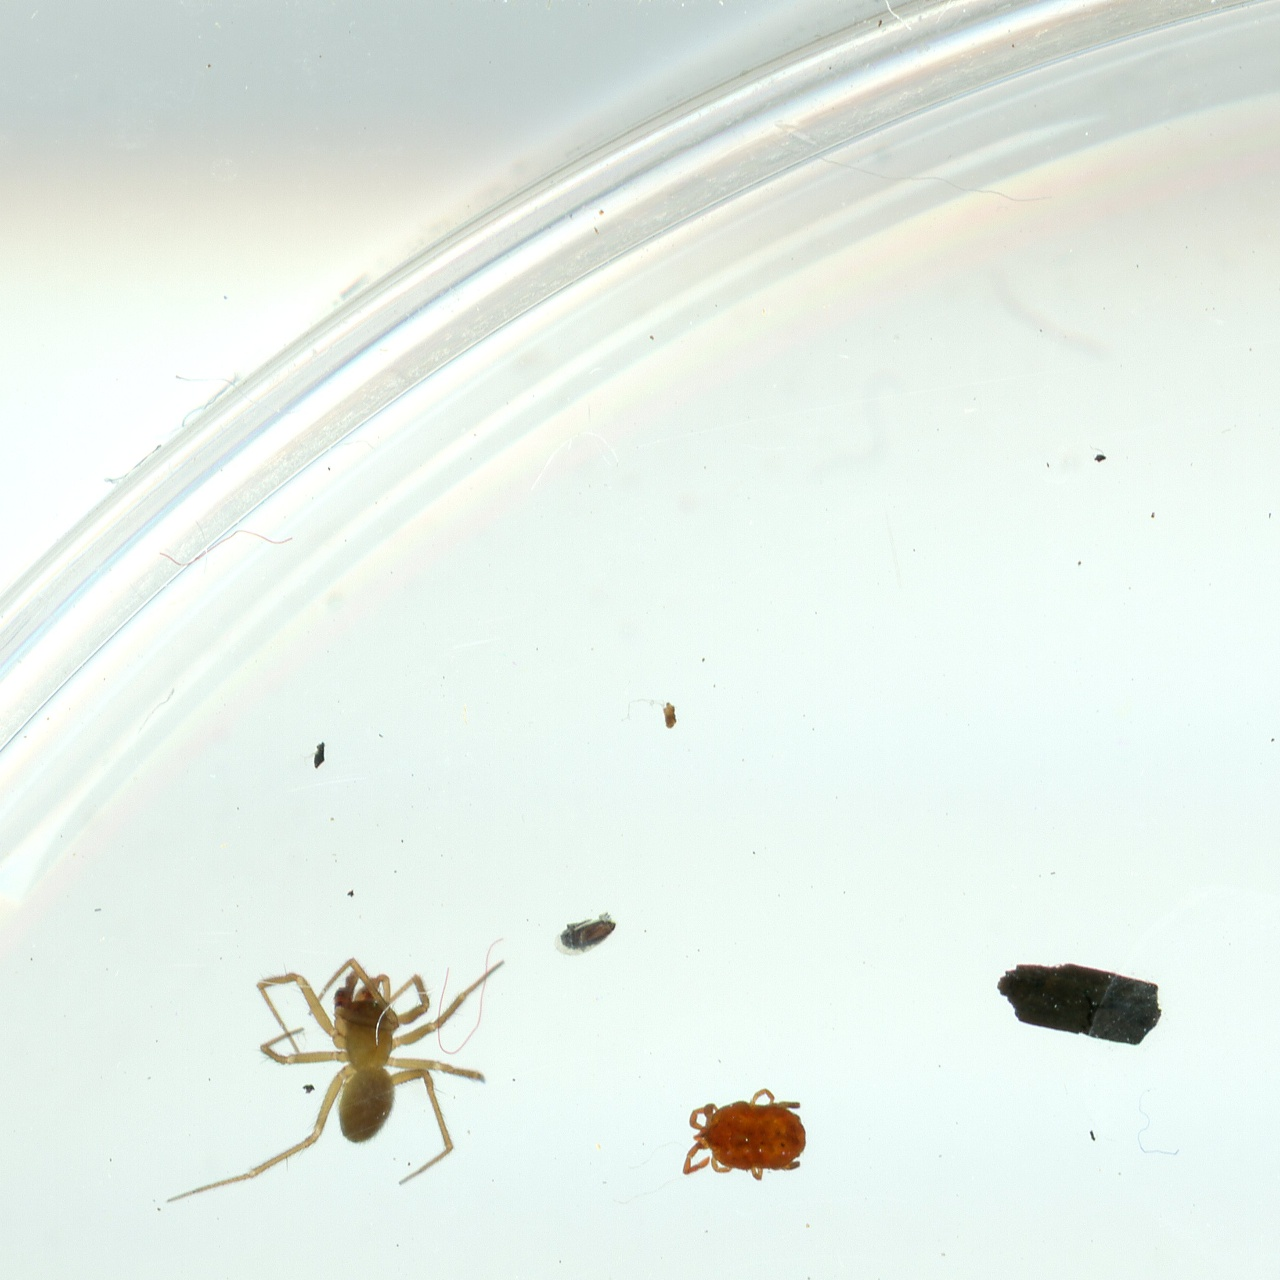arthropod: (163, 954, 510, 1212), (676, 1085, 811, 1184), (549, 908, 622, 962)
